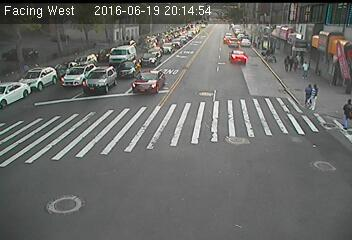neg: (264, 44, 279, 64), (53, 42, 64, 56), (103, 36, 112, 49), (241, 36, 250, 48), (117, 28, 126, 40), (63, 33, 71, 44)
pos: (304, 82, 326, 111), (336, 97, 351, 131), (300, 82, 318, 106), (298, 60, 313, 80), (281, 55, 294, 72), (287, 55, 299, 71)
